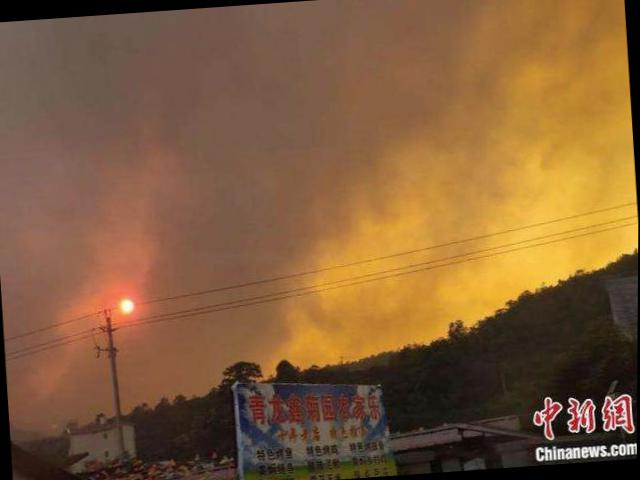fire: (258, 184, 631, 374)
